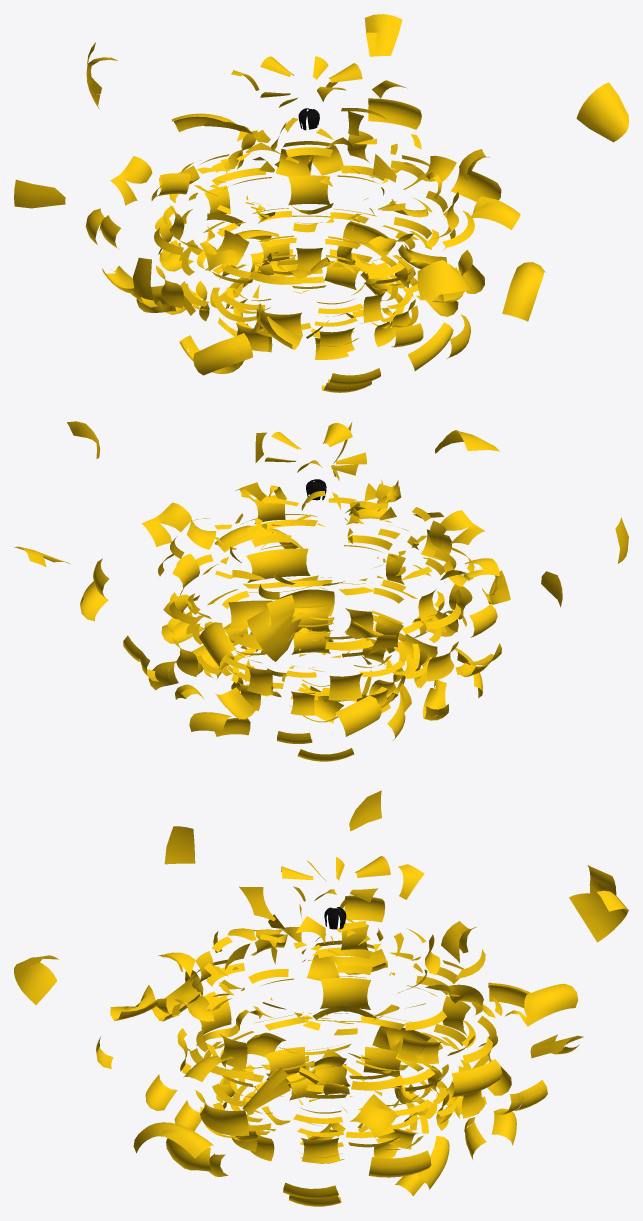
3 views of the same model, one above another, from view 1: azimuth 30°, elevation 25°; view 2: azimuth 150°, elevation 25°; view 3: azimuth 270°, elevation 25° (orthographic). The views are drawn at different scales.
Visible parts, largest first — view 1: Torus.006; view 2: Torus.006; view 3: Torus.006.
Boxes of the visible parts, left/top/right/bottom form: Torus.006: left=14, top=14, right=628, bottom=392; Torus.006: left=14, top=421, right=628, bottom=761; Torus.006: left=14, top=790, right=628, bottom=1206.
Size of the model in its own units: 317 by 148 by 289.
